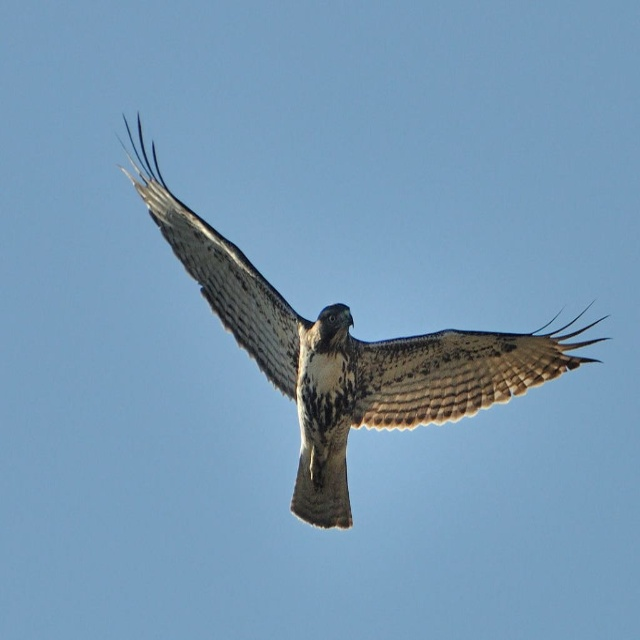Eagle: (115, 102, 621, 537)
